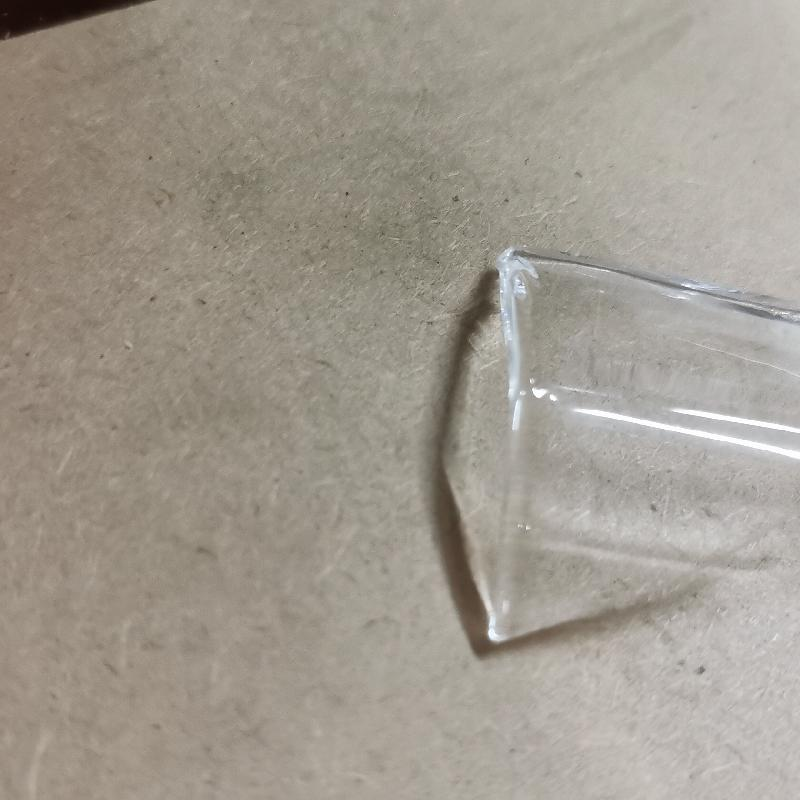glass: (483, 244, 800, 651)
